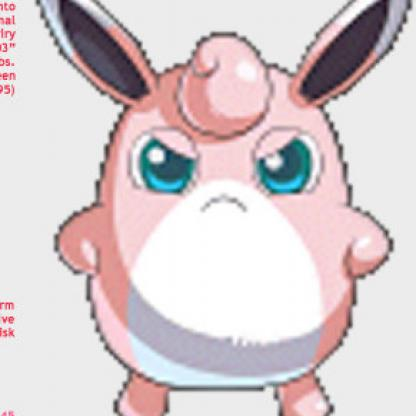Wigglytuff: (28, 1, 416, 416)
